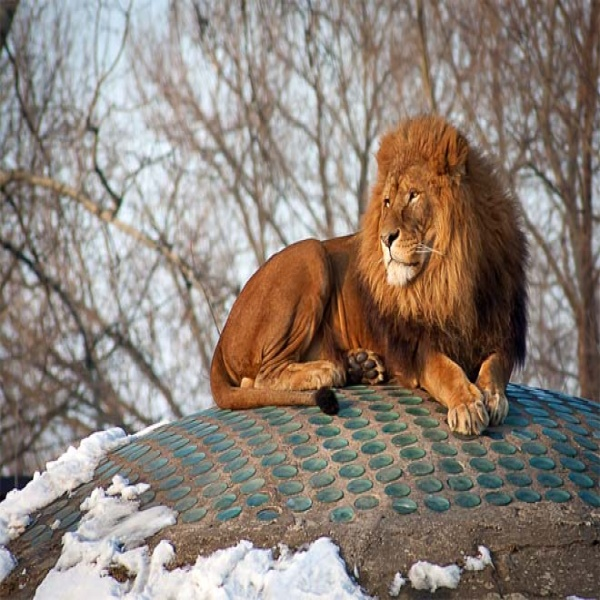Lion: (205, 109, 534, 439)
